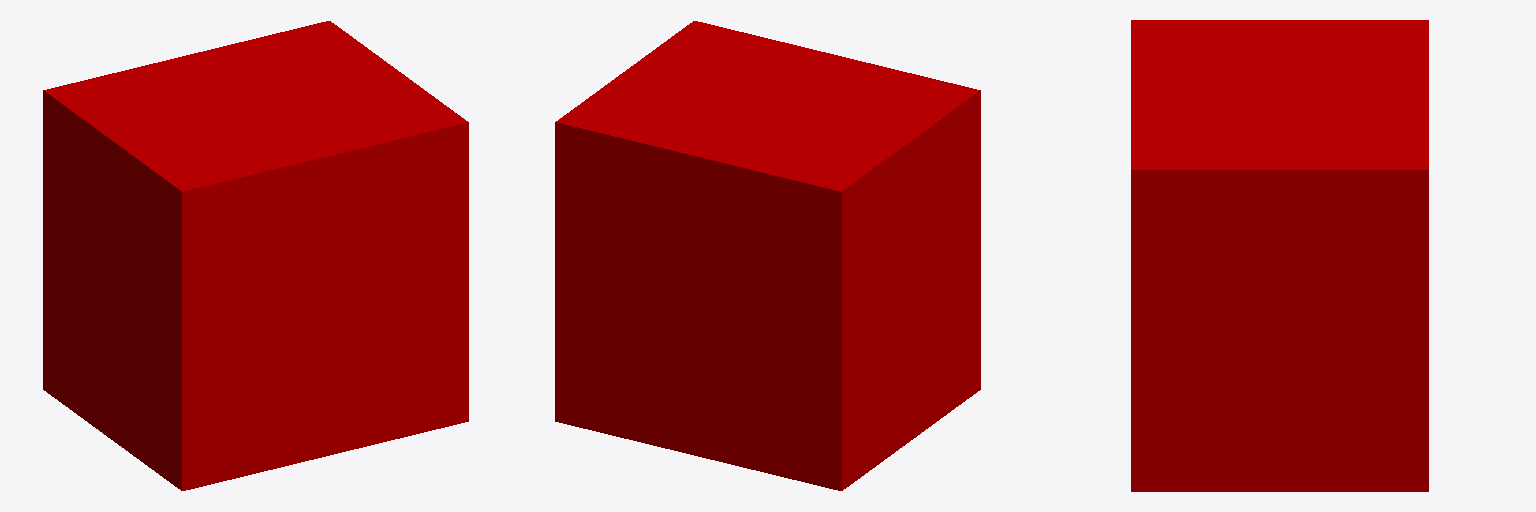
URDF robot description (box):
<?xml version="1.0" ?>
<!-- =================================================================================== -->
<!-- |    This document was autogenerated by xacro from /u/wim/cturtle_wg_all/stacks/pr2_common/pr2_description/robots/pr2.urdf.xacro | -->
<!-- |    EDITING THIS FILE BY HAND IS NOT RECOMMENDED                                 | -->
<!-- =================================================================================== -->
<robot name="box" xmlns:body="http://playerstage.sourceforge.net/gazebo/xmlschema/#body" xmlns:controller="http://playerstage.sourceforge.net/gazebo/xmlschema/#controller" xmlns:geom="http://playerstage.sourceforge.net/gazebo/xmlschema/#geom" xmlns:interface="http://playerstage.sourceforge.net/gazebo/xmlschema/#interface" xmlns:joint="http://playerstage.sourceforge.net/gazebo/xmlschema/#slider" xmlns:sensor="http://playerstage.sourceforge.net/gazebo/xmlschema/#sensor" xmlns:xacro="http://ros.org/wiki/xacro">
  <!-- materials for visualization -->
  <material name="Blue">
    <color rgba="0.0 0.0 0.8 1.0"/>
  </material>
  <material name="Green">
    <color rgba="0.0 0.8 0.0 1.0"/>
  </material>
  <material name="Grey">
    <color rgba="0.7 0.7 0.7 1.0"/>
  </material>
  <material name="Grey2">
    <color rgba="0.9 0.9 0.9 1.0"/>
  </material>
  <material name="Red">
    <color rgba="0.8 0.0 0.0 1.0"/>
  </material>
  <material name="White">
    <color rgba="1.0 1.0 1.0 1.0"/>
  </material>
<link name="base_link">
    <visual>
      <origin rpy="0 0 0" xyz="0 0 0"/>
      <geometry>
        <mesh filename="package://hpp_dynamic/urdf/box.stl"/>
      </geometry>
      <material name="Red"/>
    </visual>
    <collision>
      <origin rpy="0 0 0" xyz="0 0 0"/>
      <geometry>
        <mesh filename="package://hpp_dynamic/urdf/box.stl"/>
      </geometry>
    </collision>
  </link>
</robot>

--- Facts derived from the render (not from the file) ---
Views: 3 orthographic renders of the robot side by side, from view 1: azimuth 30°, elevation 25°; view 2: azimuth 150°, elevation 25°; view 3: azimuth 270°, elevation 25°.
Robot: box — 1 links, 0 joints (none); root link base_link; default pose: every joint at zero.
Visible links, largest first — view 1: base_link; view 2: base_link; view 3: base_link.
Boxes of the visible links, x1,y1,x2,y2 form: base_link: [43, 21, 468, 490]; base_link: [555, 21, 980, 490]; base_link: [1131, 20, 1428, 491].
Size in the robot's own frame: 0.2 by 0.168 by 0.2 metres.
Meshes: 1 distinct files referenced, 1 mesh visuals loaded (1 binary STL).
